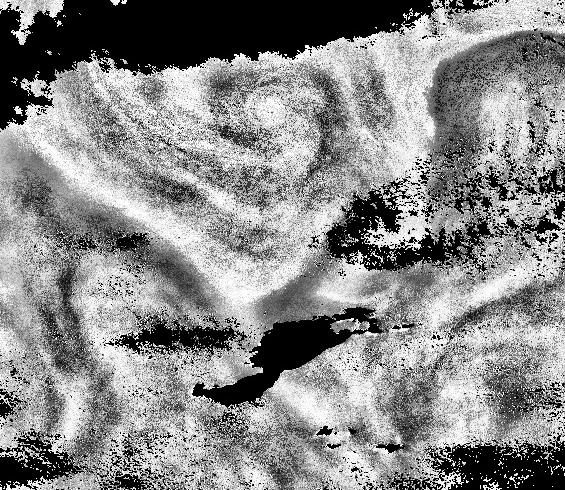CE: (40, 56, 388, 286)
